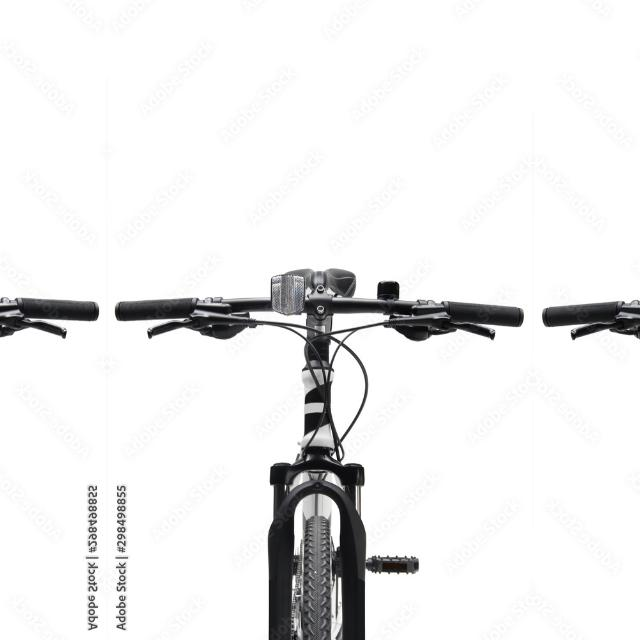obstacle: (112, 250, 532, 640), (533, 250, 640, 640), (0, 250, 100, 640)
